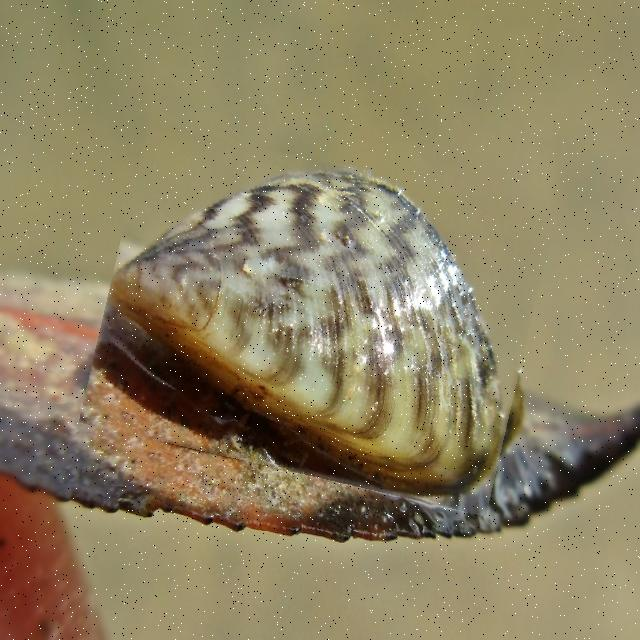Dreissena_polymorpha: (94, 142, 541, 494)
